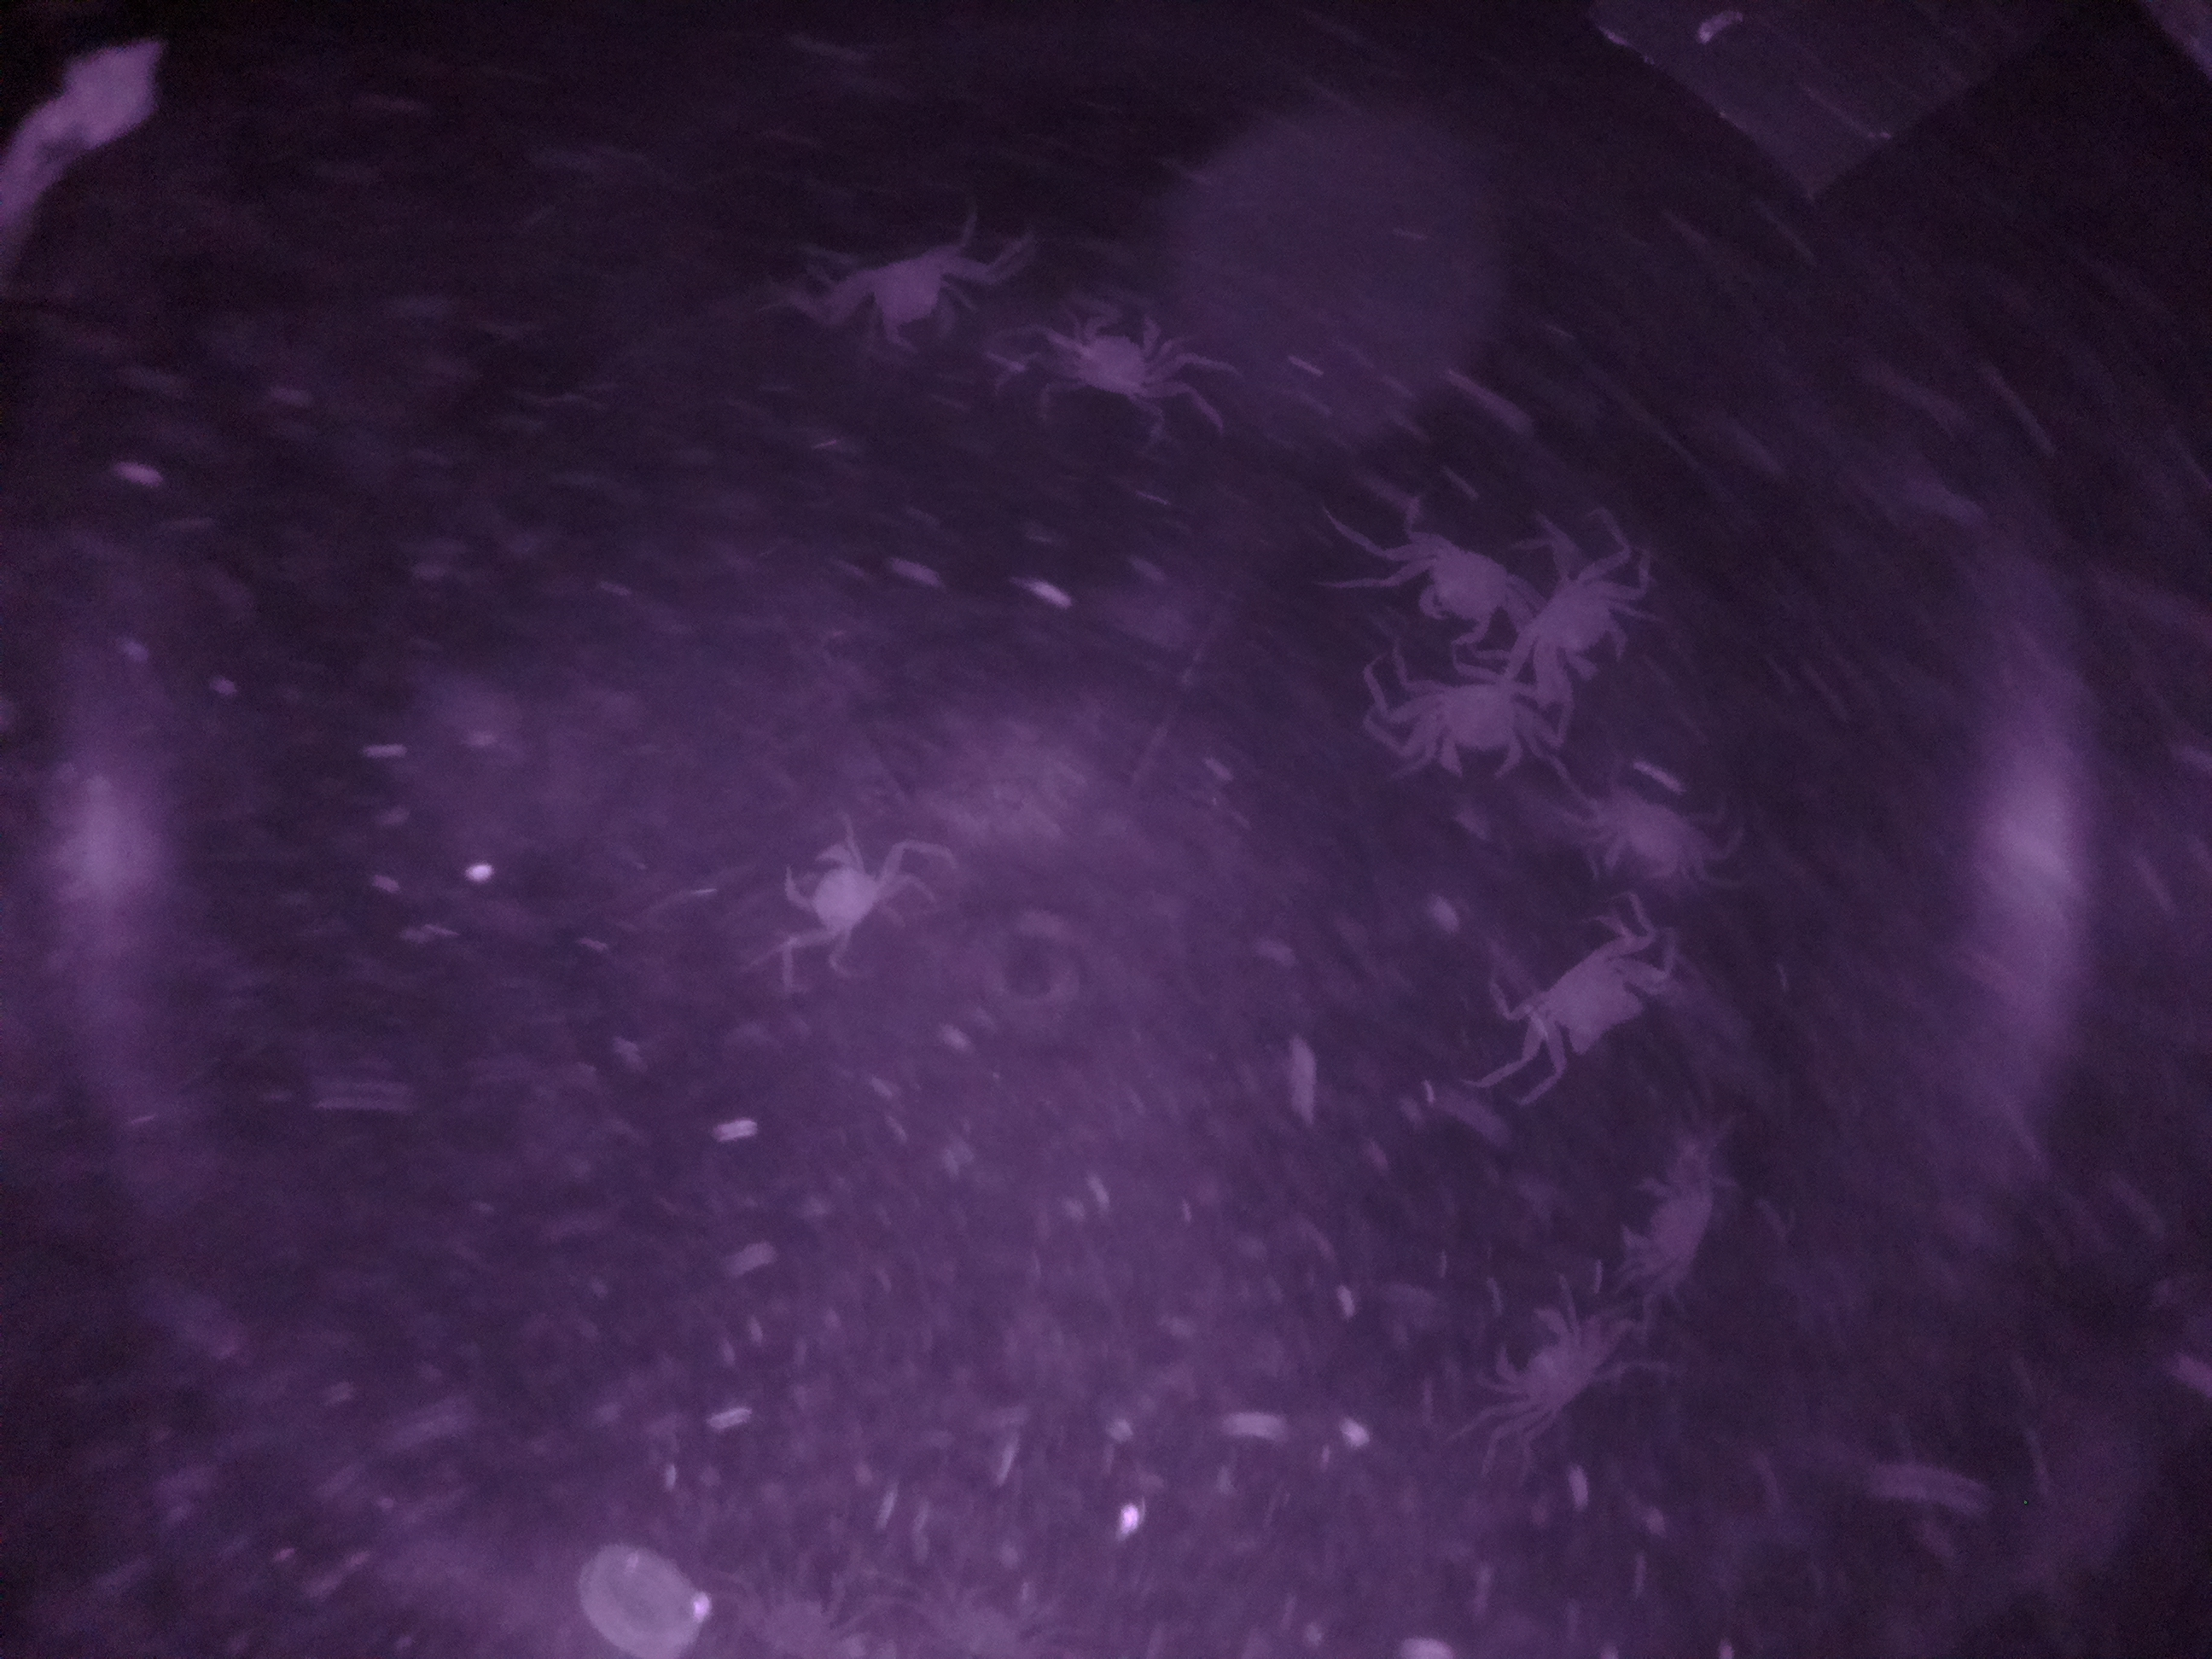Crab: (1507, 917, 1676, 1077), (1374, 530, 1536, 660), (1519, 542, 1637, 704), (1406, 674, 1540, 795)
